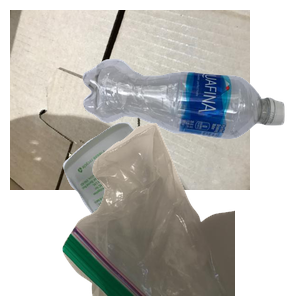cardboard: (10, 10, 250, 190)
glass: (60, 120, 300, 300)
plastic: (80, 56, 300, 187)
trash: (60, 120, 300, 300)
